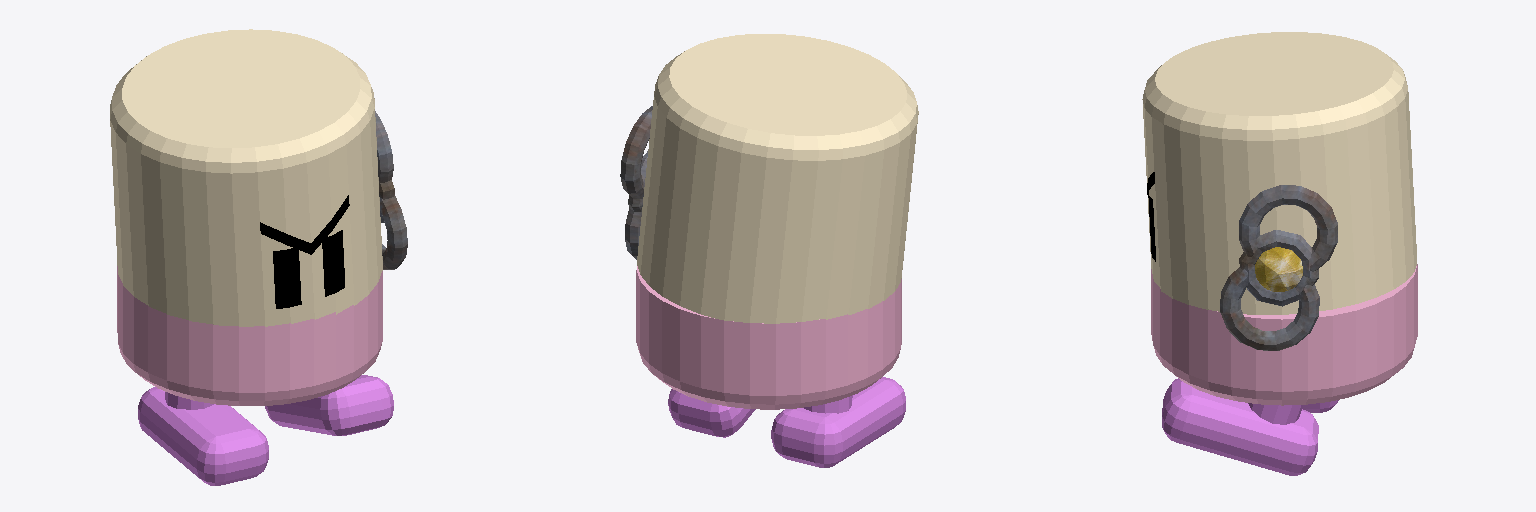
The picture shows the model from 3 angles: view 1: azimuth 30°, elevation 25°; view 2: azimuth 150°, elevation 25°; view 3: azimuth 270°, elevation 25°; orthographic projection.
Visible parts, largest first — view 1: Head, Jaw, RightLeg, LeftLeg, WindupKey; view 2: Head, Jaw, RightLeg, WindupKey, LeftLeg; view 3: Head, Jaw, WindupKey, LeftLeg.
Boxes of the visible parts, <box> form: Head: <box>110,29,382,326</box>; Jaw: <box>117,266,382,405</box>; RightLeg: <box>138,387,268,485</box>; LeftLeg: <box>265,375,393,435</box>; WindupKey: <box>375,111,407,269</box>; Head: <box>637,34,918,323</box>; Jaw: <box>636,266,901,409</box>; RightLeg: <box>771,377,905,467</box>; WindupKey: <box>620,106,652,259</box>; LeftLeg: <box>668,389,755,437</box>; Head: <box>1142,32,1416,314</box>; Jaw: <box>1151,264,1417,405</box>; WindupKey: <box>1220,185,1337,350</box>; LeftLeg: <box>1162,378,1318,475</box>.
Bounding box in the file's own units: 114 × 152 × 103.
6 materials, 2 textured.